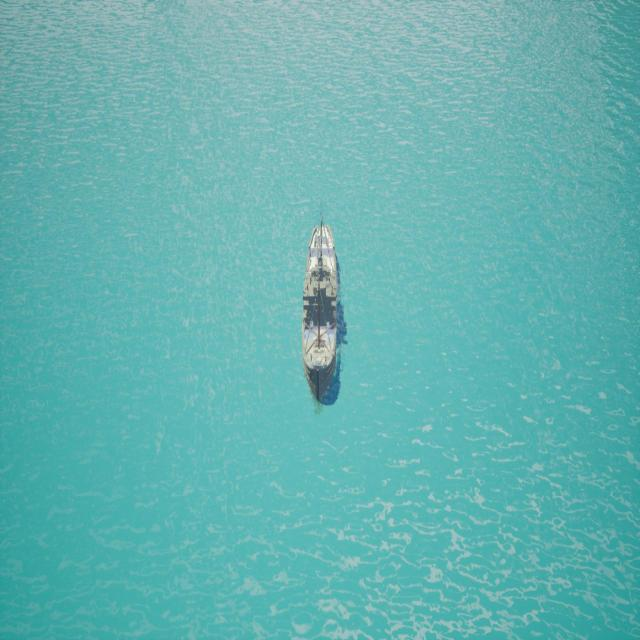fishing ship: (301, 214, 345, 414)
